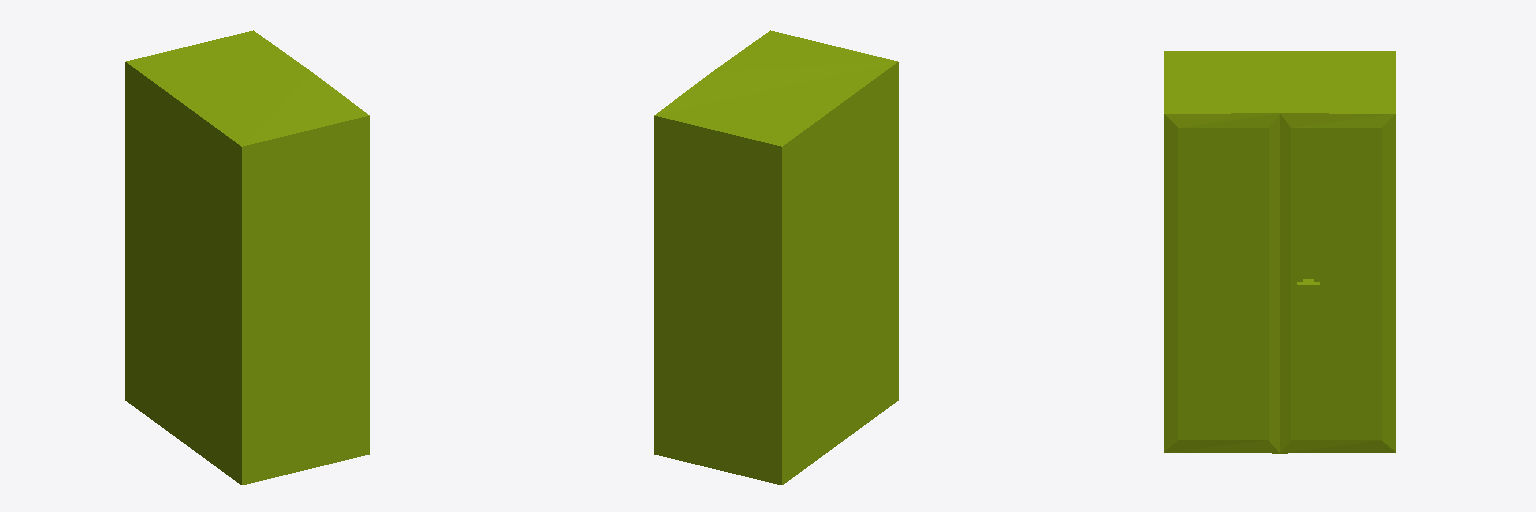
File: almirah_001.obj
The picture shows the model from 3 angles: view 1: azimuth 30°, elevation 25°; view 2: azimuth 150°, elevation 25°; view 3: azimuth 270°, elevation 25°; orthographic projection.
Parts seen in each view (by area): view 1: Box001; view 2: Box001; view 3: Box001, Door2, Door1.
Part boxes in pixels (bbox=[...]): Box001: bbox=[125, 30, 369, 484]; Box001: bbox=[654, 30, 898, 484]; Box001: bbox=[1164, 51, 1395, 453]; Door2: bbox=[1291, 128, 1381, 439]; Door1: bbox=[1178, 128, 1268, 439].
Size of the model in its own units: 29.58 by 66.41 by 41.15.